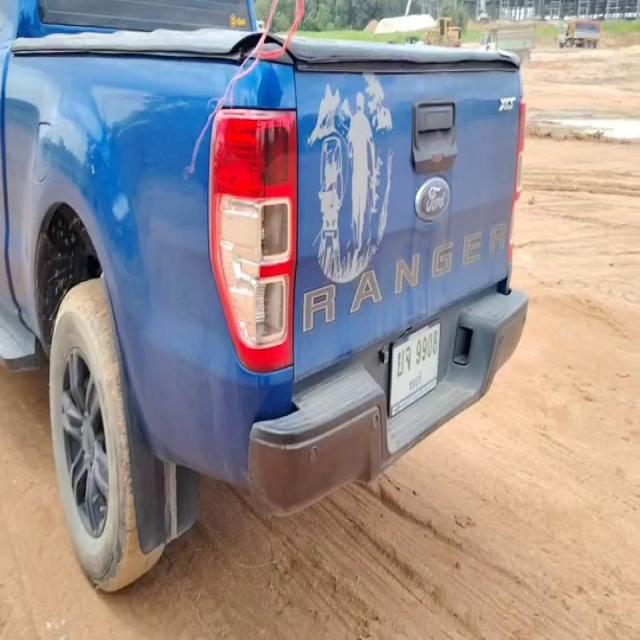Digit: (418, 336, 440, 362)
Licenseplate: (390, 318, 442, 418)
Provincename: (404, 372, 426, 394)
Thaichar: (397, 345, 412, 377)
